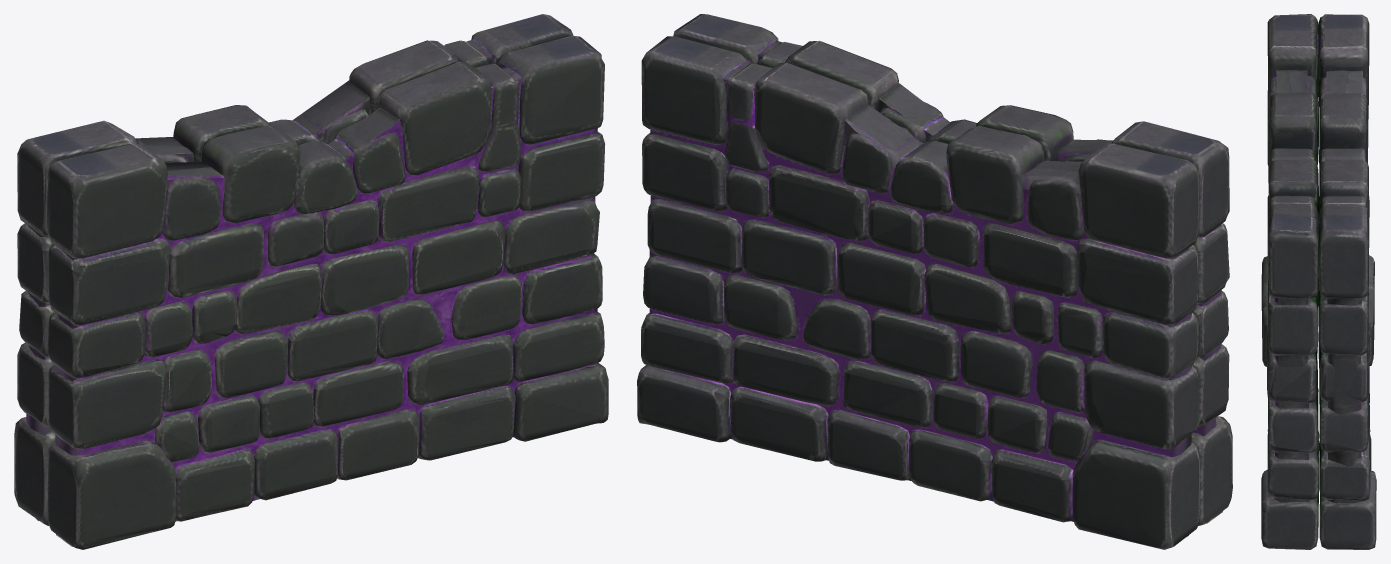
The model's file is wall_straight_controlled.glb.
The picture shows the model from 3 angles, left to right: view 1: azimuth 30°, elevation 25°; view 2: azimuth 150°, elevation 25°; view 3: azimuth 270°, elevation 25°; orthographic projection. The views are drawn at different scales.
Size of the model in its own units: 1 by 0.6719 by 0.2192.
Materials: 1 (1 with a texture image).
